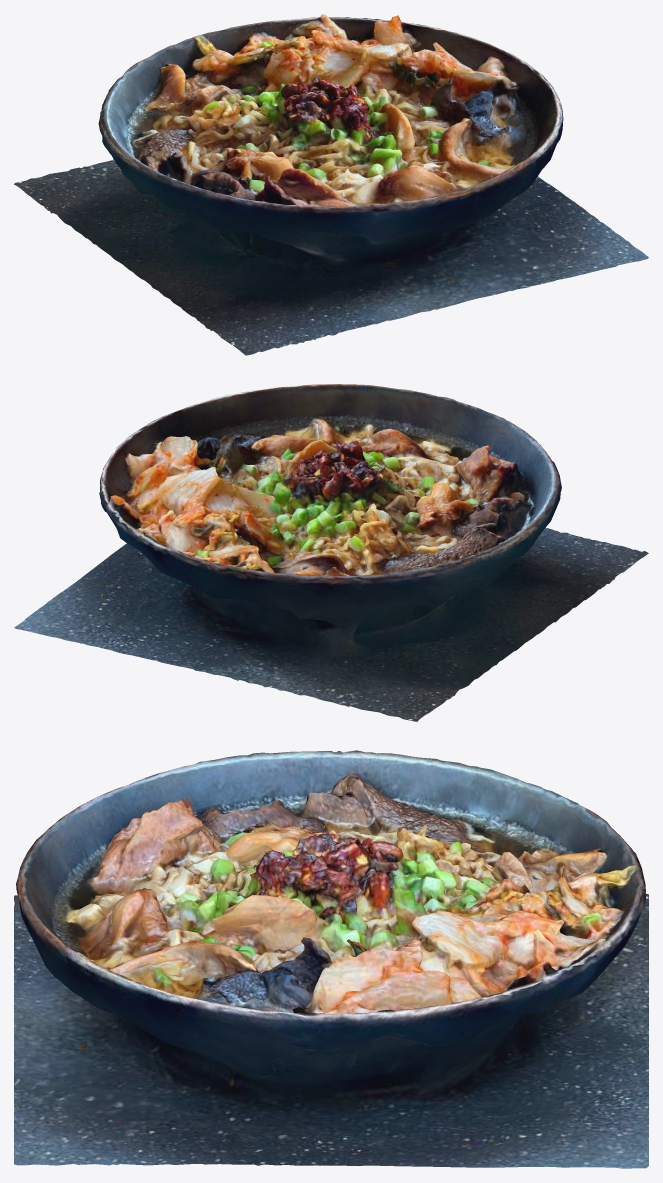
File: 1787369490158-Spicy Ramen.glb
The picture shows the model from 3 angles, top to bottom: view 1: azimuth 30°, elevation 25°; view 2: azimuth 150°, elevation 25°; view 3: azimuth 270°, elevation 25°; orthographic projection. The views are drawn at different scales.
Size of the model in its own units: 0.2171 by 0.0728 by 0.217.
1 material, 1 textured.
